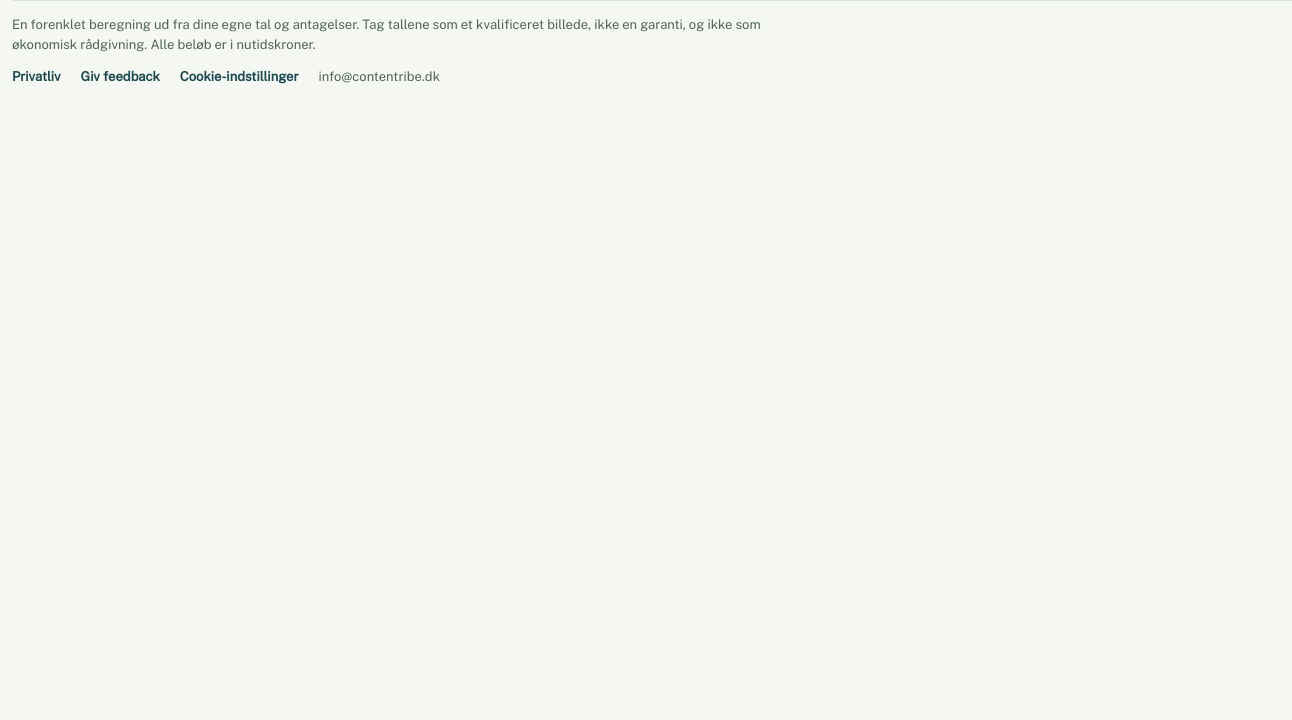
Test: consent banner and footer › footer 'Cookie-indstillinger' reopens it with the current choice
The width and height of the screenshot is (1292, 720).
Expected: the element "Må vi huske din browser?" is not shown
Click the button "Cookie-indstillinger".
click(239, 77)  # box [180,67,298,87]
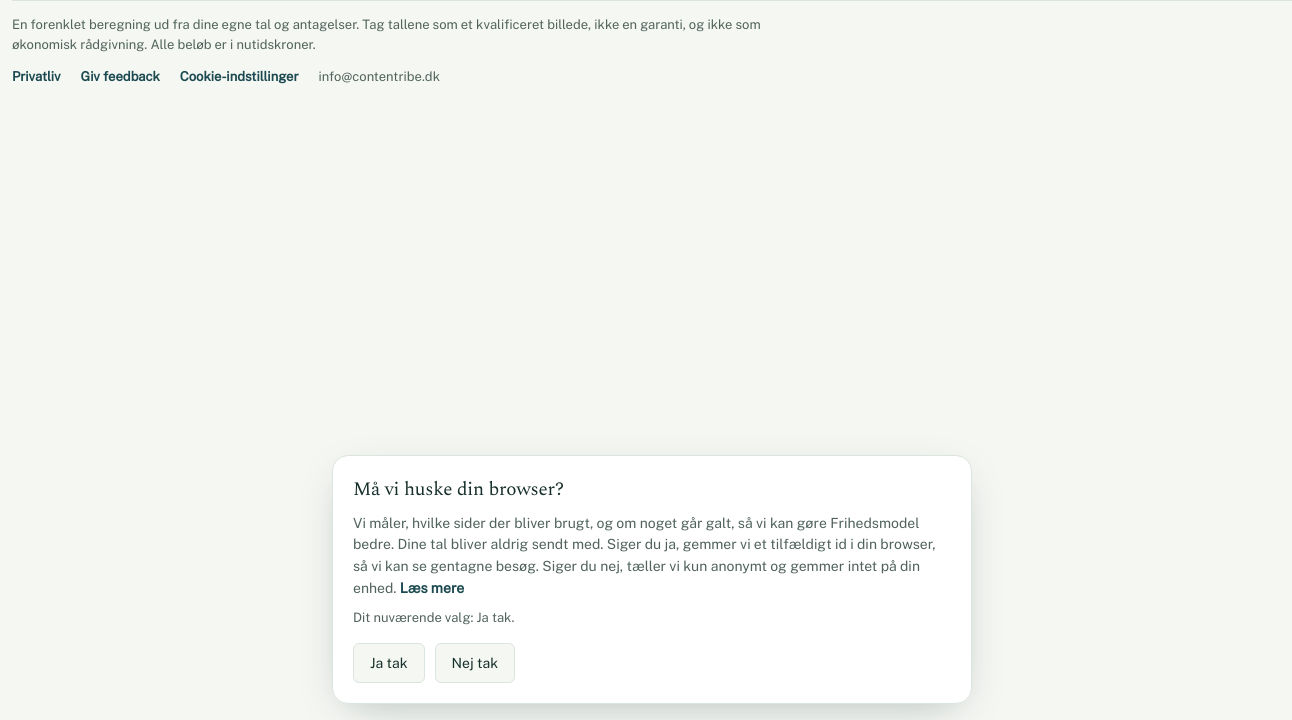
Result: the text "Dit nuværende valg: Ja tak." is shown at [353,610,514,624]
